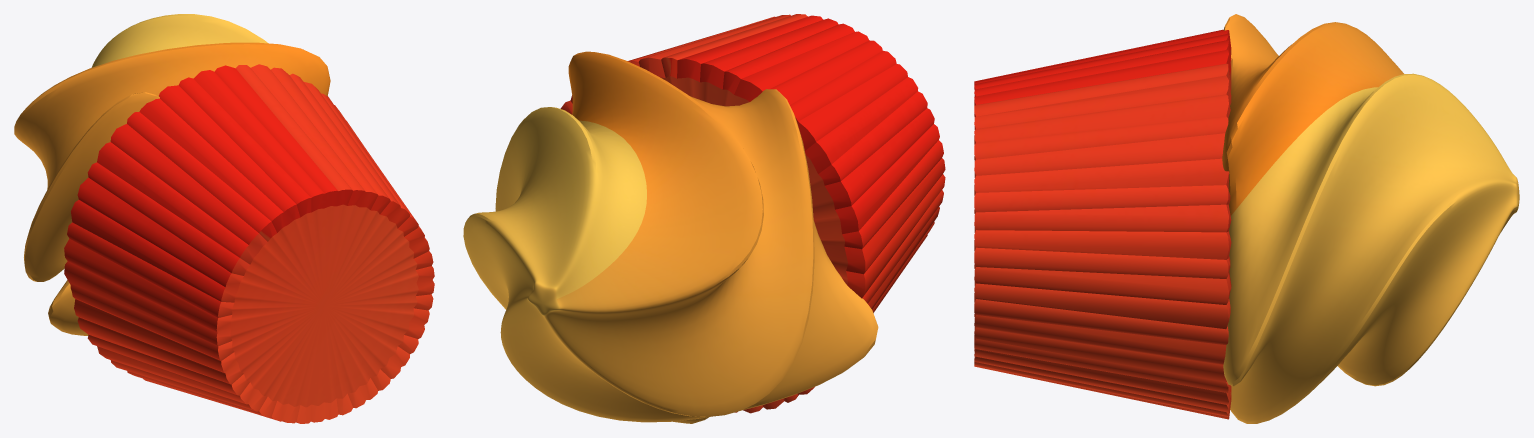
The model's file is Muffin.fbx.
3 views of the same model, side by side, from view 1: azimuth 30°, elevation 25°; view 2: azimuth 150°, elevation 25°; view 3: azimuth 270°, elevation 25° (orthographic). The views are drawn at different scales.
Parts seen in each view (by area): view 1: Muffin; view 2: Muffin; view 3: Muffin.
Boxes of the visible parts, bbox=[...] form: Muffin: bbox=[14, 14, 434, 423]; Muffin: bbox=[463, 14, 945, 423]; Muffin: bbox=[974, 14, 1519, 423].
Bounding box in the file's own units: 67.44 × 63.11 × 84.44.
